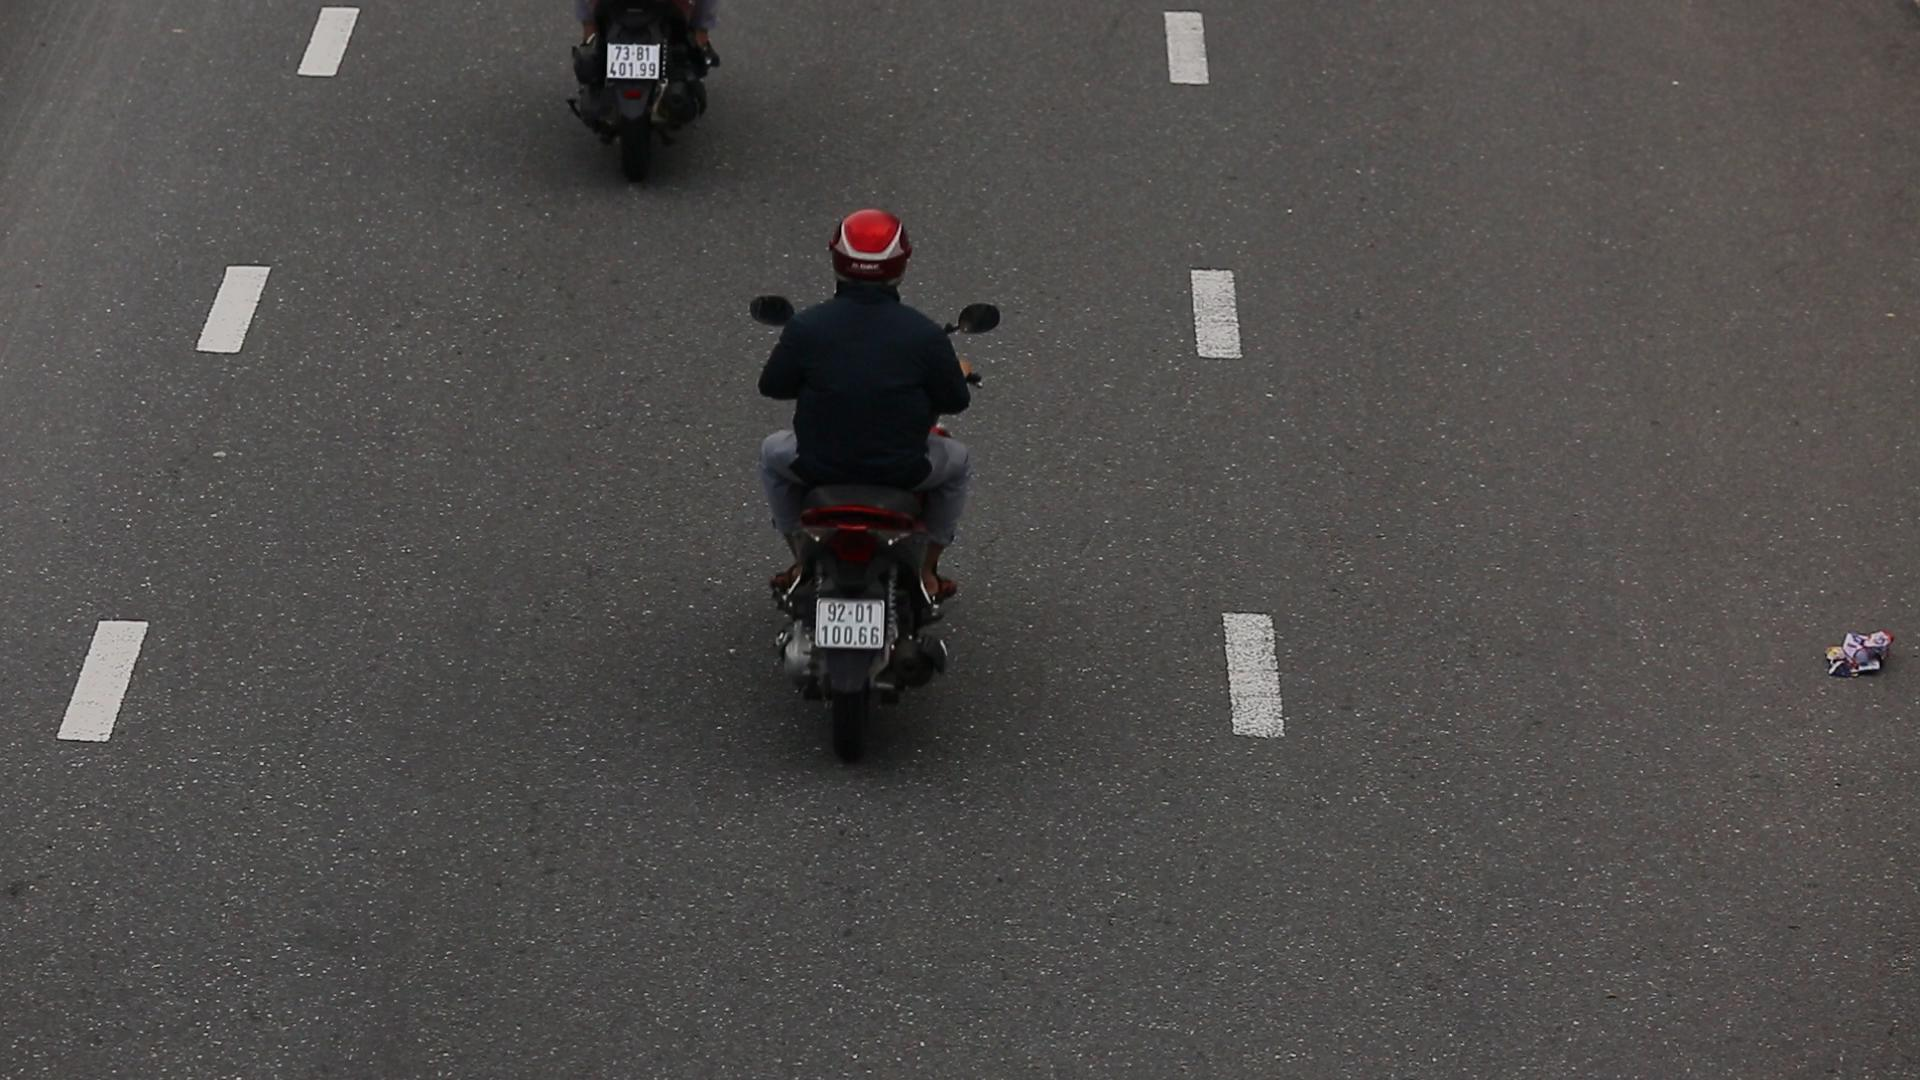motobike: (720, 182, 1019, 765)
